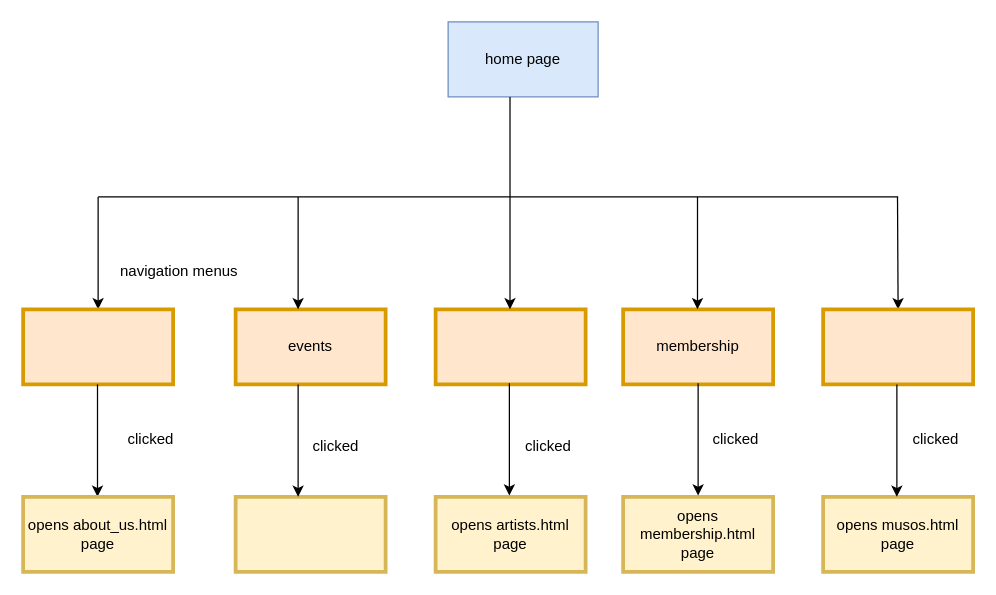
The diagram is 996 pixels wide and 595 high, and some of its shapes have lost their labels. The box of each missing label's shape, as (x1, y1, x2, y2) in pixels:
about us: (21, 307, 174, 386)
artists: (433, 307, 587, 386)
musos: (821, 307, 974, 386)
opens events.html page: (233, 494, 387, 573)
